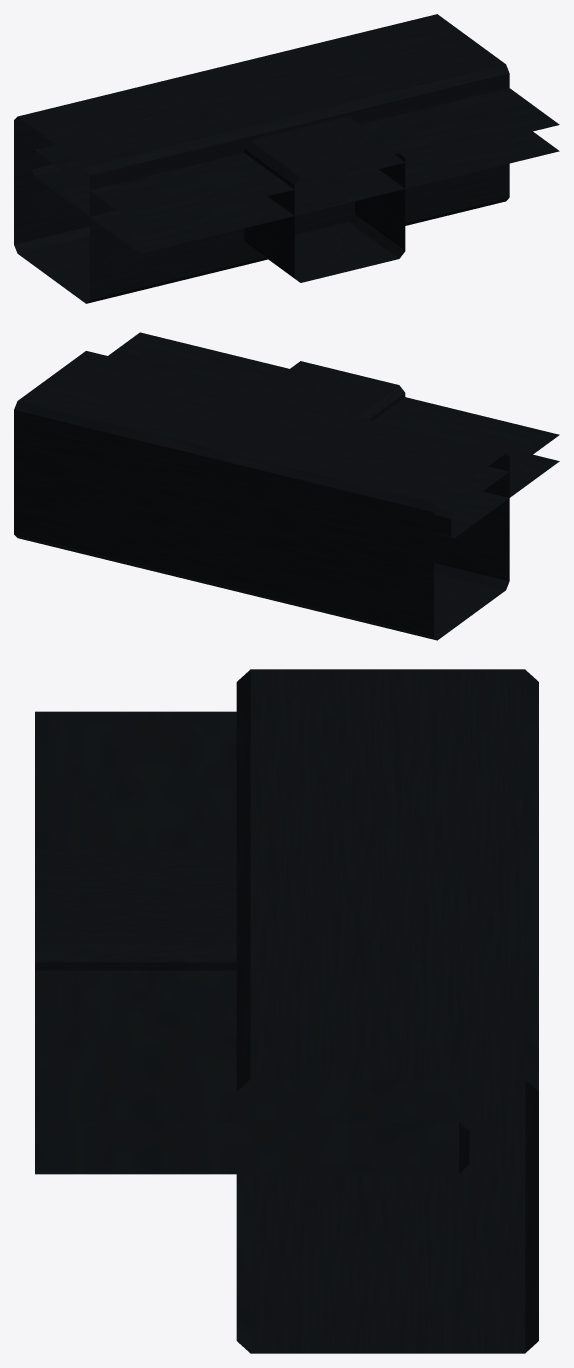
File: cell_3.obj
3 renders of one model, top to bottom at view 1: azimuth 30°, elevation 25°; view 2: azimuth 150°, elevation 25°; view 3: azimuth 270°, elevation 25°, orthographic. The views are drawn at different scales.
Parts seen in each view (by area): view 1: cell_3; view 2: cell_3; view 3: cell_3.
Boxes of the visible parts, bbox=[...] form: cell_3: bbox=[14, 14, 559, 303]; cell_3: bbox=[14, 332, 559, 640]; cell_3: bbox=[35, 669, 538, 1353].
Bounding box in the file's own units: 1 × 0.312 × 0.52.
